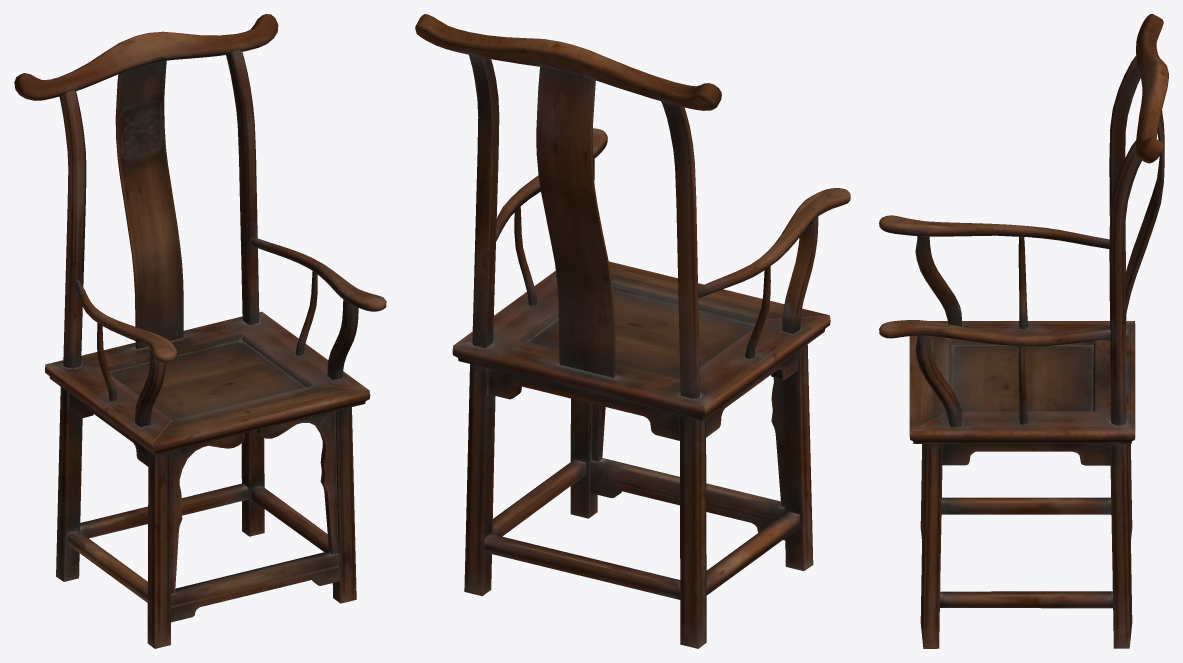
File: ph-chinese_armchair.glb
The picture shows the model from 3 angles, left to right: view 1: azimuth 30°, elevation 25°; view 2: azimuth 150°, elevation 25°; view 3: azimuth 270°, elevation 25°; orthographic projection. The views are drawn at different scales.
Parts seen in each view (by area): view 1: chinese_armchair; view 2: chinese_armchair; view 3: chinese_armchair.
Part boxes in pixels (x1,y1,x2,y2): chinese_armchair: (14,14,386,648); chinese_armchair: (415,14,850,648); chinese_armchair: (879,14,1168,648).
Size of the model in its own units: 0.5344 by 1 by 0.4967.
1 material, 1 textured.
